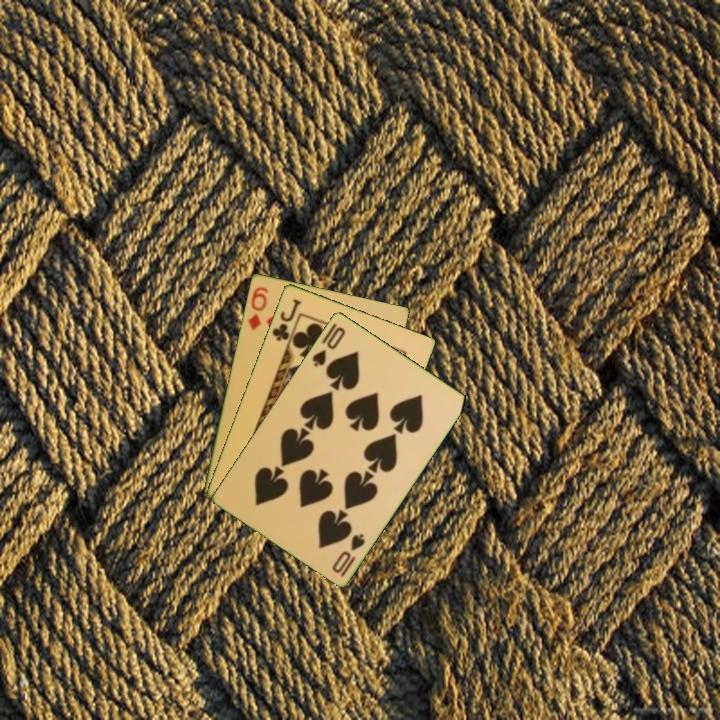10s: (328, 530, 368, 579), (308, 323, 348, 370)
6d: (244, 282, 271, 333)
Jc: (268, 295, 304, 343)
